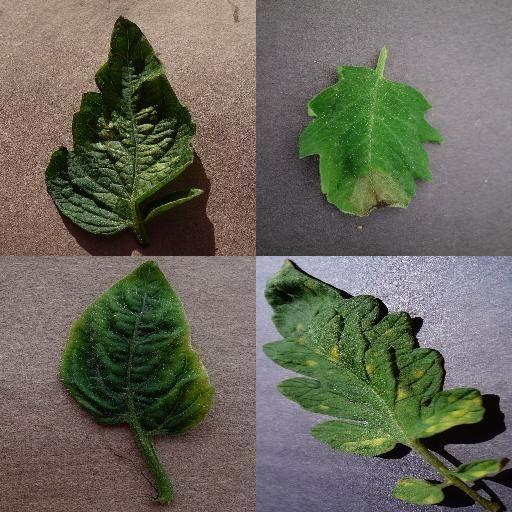Late Blight: (297, 64, 441, 222)
Leaf Mold: (263, 257, 486, 457)
Spider Mites: (45, 18, 207, 234)
Yellow Leaf Curl Virus: (56, 257, 216, 439)
